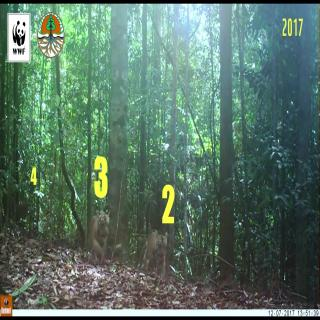Tiger: (86, 202, 116, 266), (140, 221, 172, 275)
